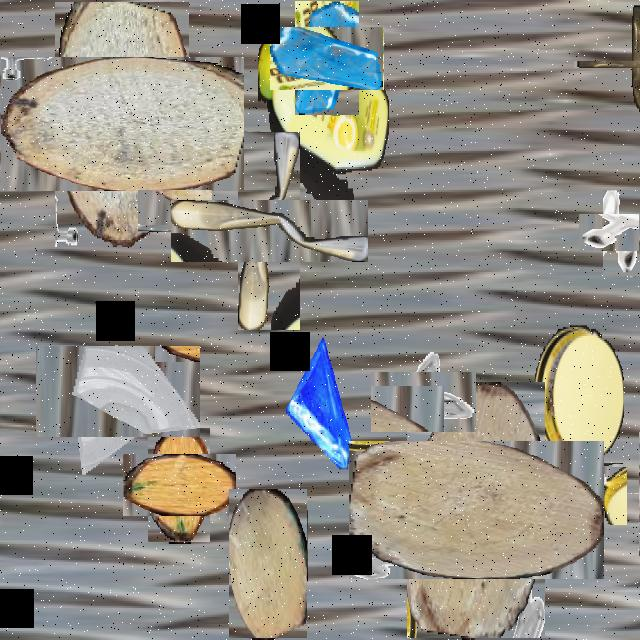glass: (54, 327, 182, 455), (286, 338, 360, 469), (283, 14, 372, 103)
metal: (529, 451, 615, 537), (382, 360, 464, 444), (146, 182, 204, 241), (590, 202, 640, 263)
plastic: (258, 32, 388, 213), (204, 166, 334, 296), (535, 325, 623, 464), (603, 30, 640, 97)
wood: (378, 412, 574, 608), (27, 30, 217, 219), (229, 489, 307, 638), (135, 442, 223, 530), (608, 462, 640, 525)
